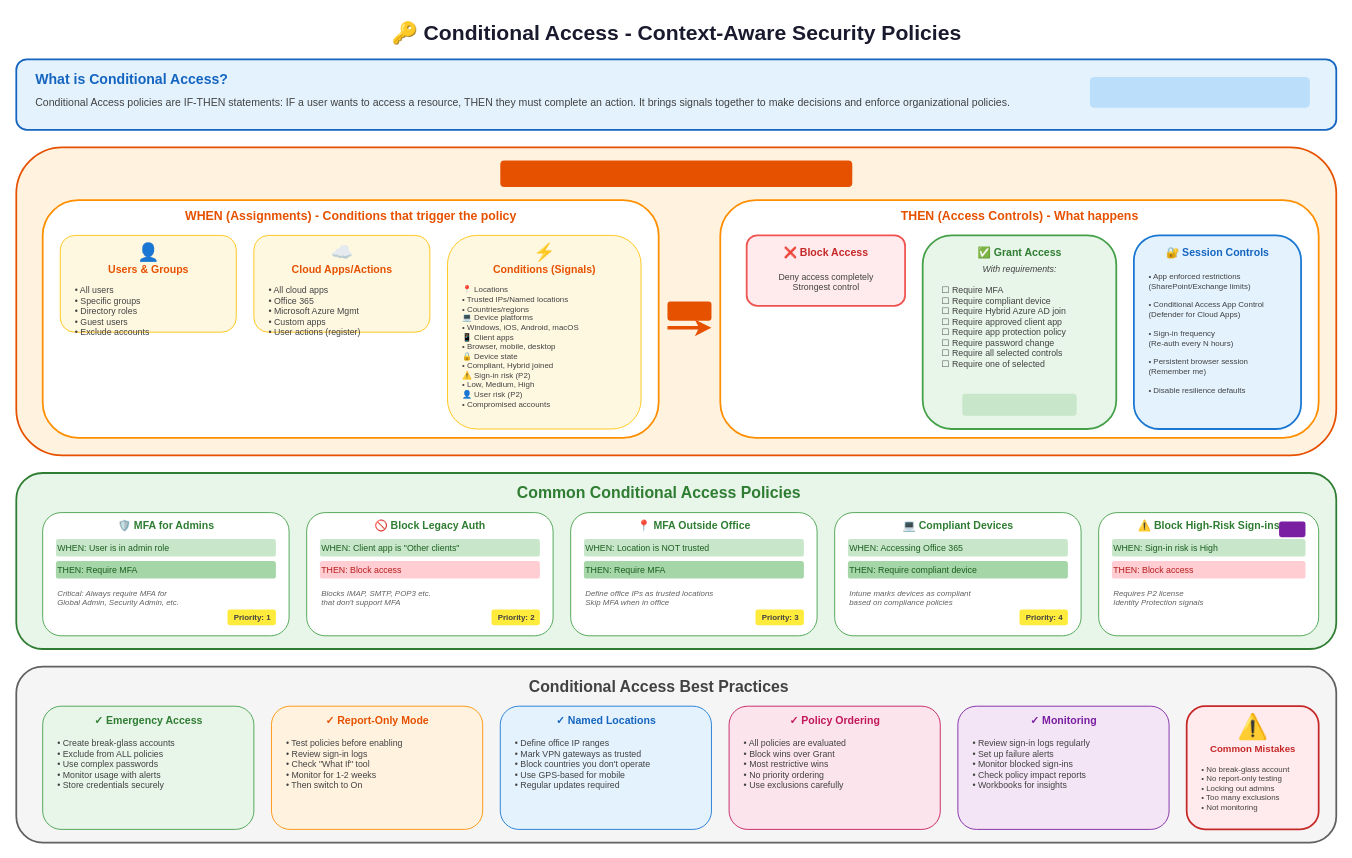
Image size: 1352x858. Some labels were removed from this diagram. The shapes that lost their labels are listed below. From the top down, each one's centre as x and y in pixels, then its label:
(1199,92): Signals + Decision = Enforcement
(676,173): Conditional Access Policy Structure
(689,310): THEN
(1019,404): + Terms of Use
(1292,529): P2
